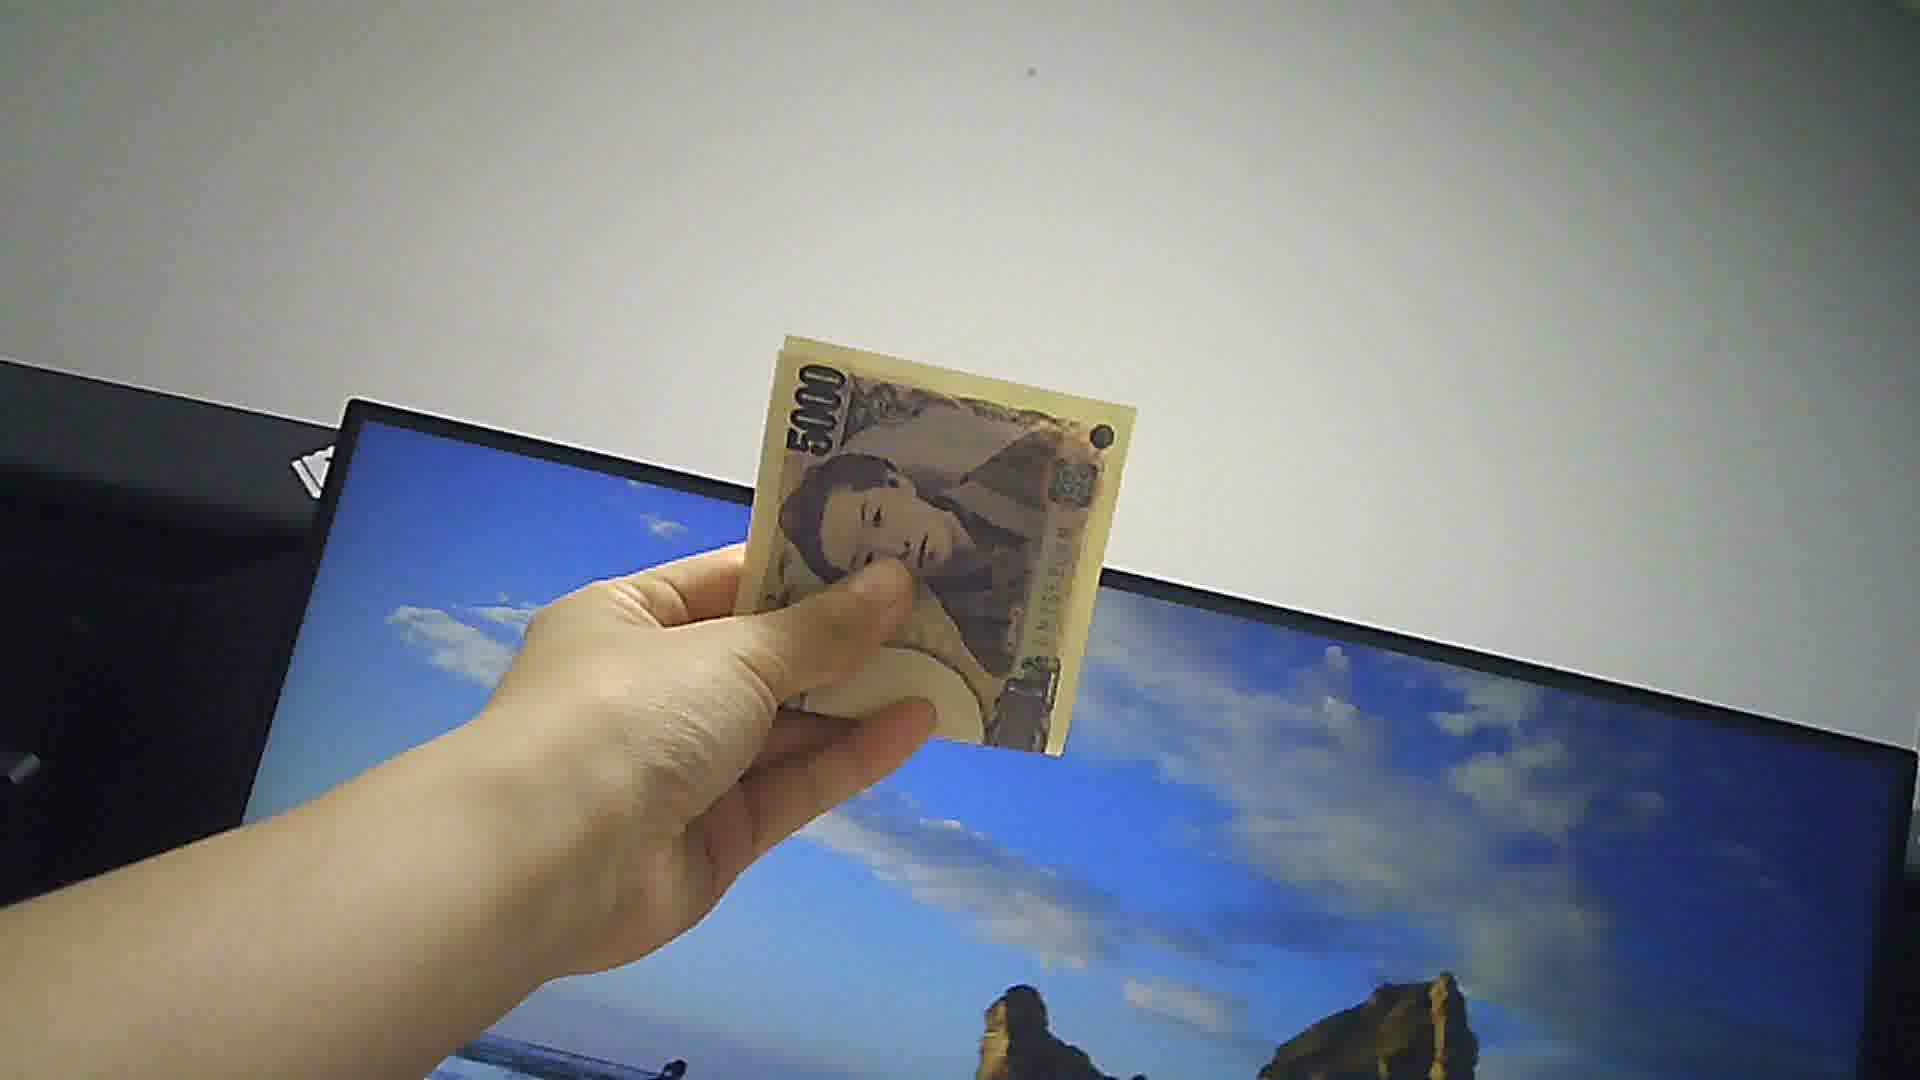5,000 Yen: (720, 336, 1137, 756)
